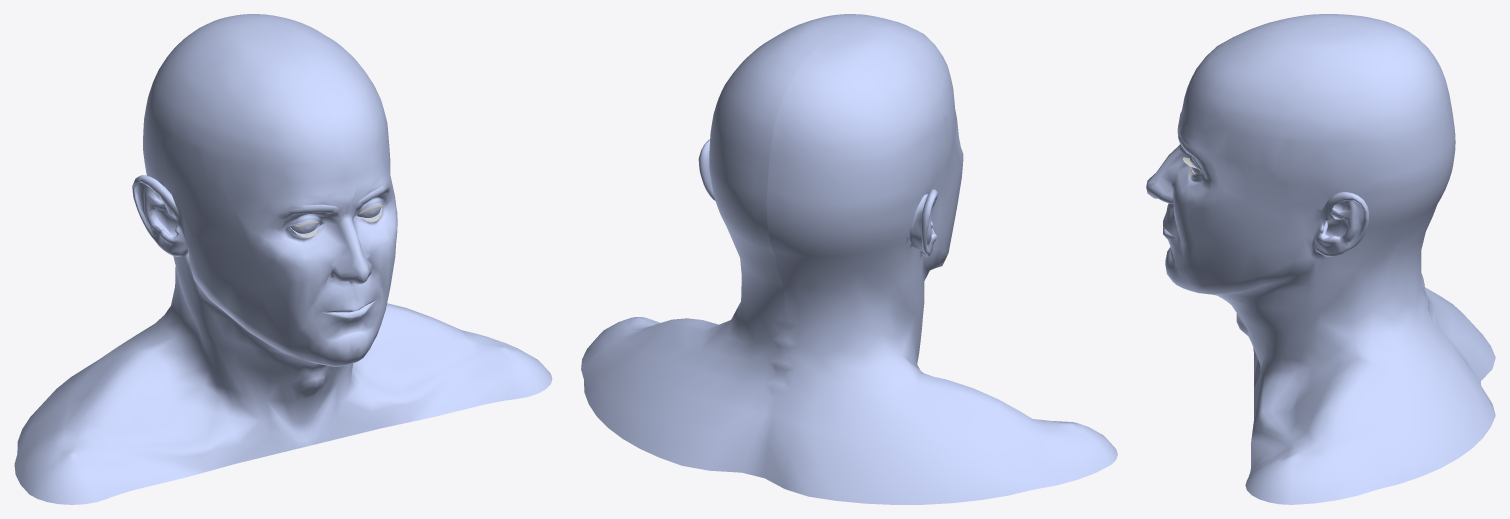
Rendered from avatar.obj.
The picture shows the model from 3 angles, left to right: view 1: azimuth 30°, elevation 25°; view 2: azimuth 150°, elevation 25°; view 3: azimuth 270°, elevation 25°; orthographic projection. The views are drawn at different scales.
Parts seen in each view (by area): view 1: Mesh6 MeiaCabe_a_1_2 Myboldhead1 Model, Mesh5 MeiaCabe_a_1_1 Myboldhead1 Model; view 2: Mesh6 MeiaCabe_a_1_2 Myboldhead1 Model, Mesh5 MeiaCabe_a_1_1 Myboldhead1 Model; view 3: Mesh5 MeiaCabe_a_1_1 Myboldhead1 Model, Mesh6 MeiaCabe_a_1_2 Myboldhead1 Model.
Boxes of the visible parts, left/top/right/bottom form: Mesh6 MeiaCabe_a_1_2 Myboldhead1 Model: left=14, top=16, right=364, bottom=504; Mesh5 MeiaCabe_a_1_1 Myboldhead1 Model: left=230, top=14, right=552, bottom=445; Mesh6 MeiaCabe_a_1_2 Myboldhead1 Model: left=753, top=17, right=1117, bottom=504; Mesh5 MeiaCabe_a_1_1 Myboldhead1 Model: left=581, top=14, right=878, bottom=475; Mesh5 MeiaCabe_a_1_1 Myboldhead1 Model: left=1146, top=27, right=1495, bottom=504; Mesh6 MeiaCabe_a_1_2 Myboldhead1 Model: left=1147, top=14, right=1495, bottom=385.
Size of the model in its own units: 6.8 by 4.81 by 4.24.
